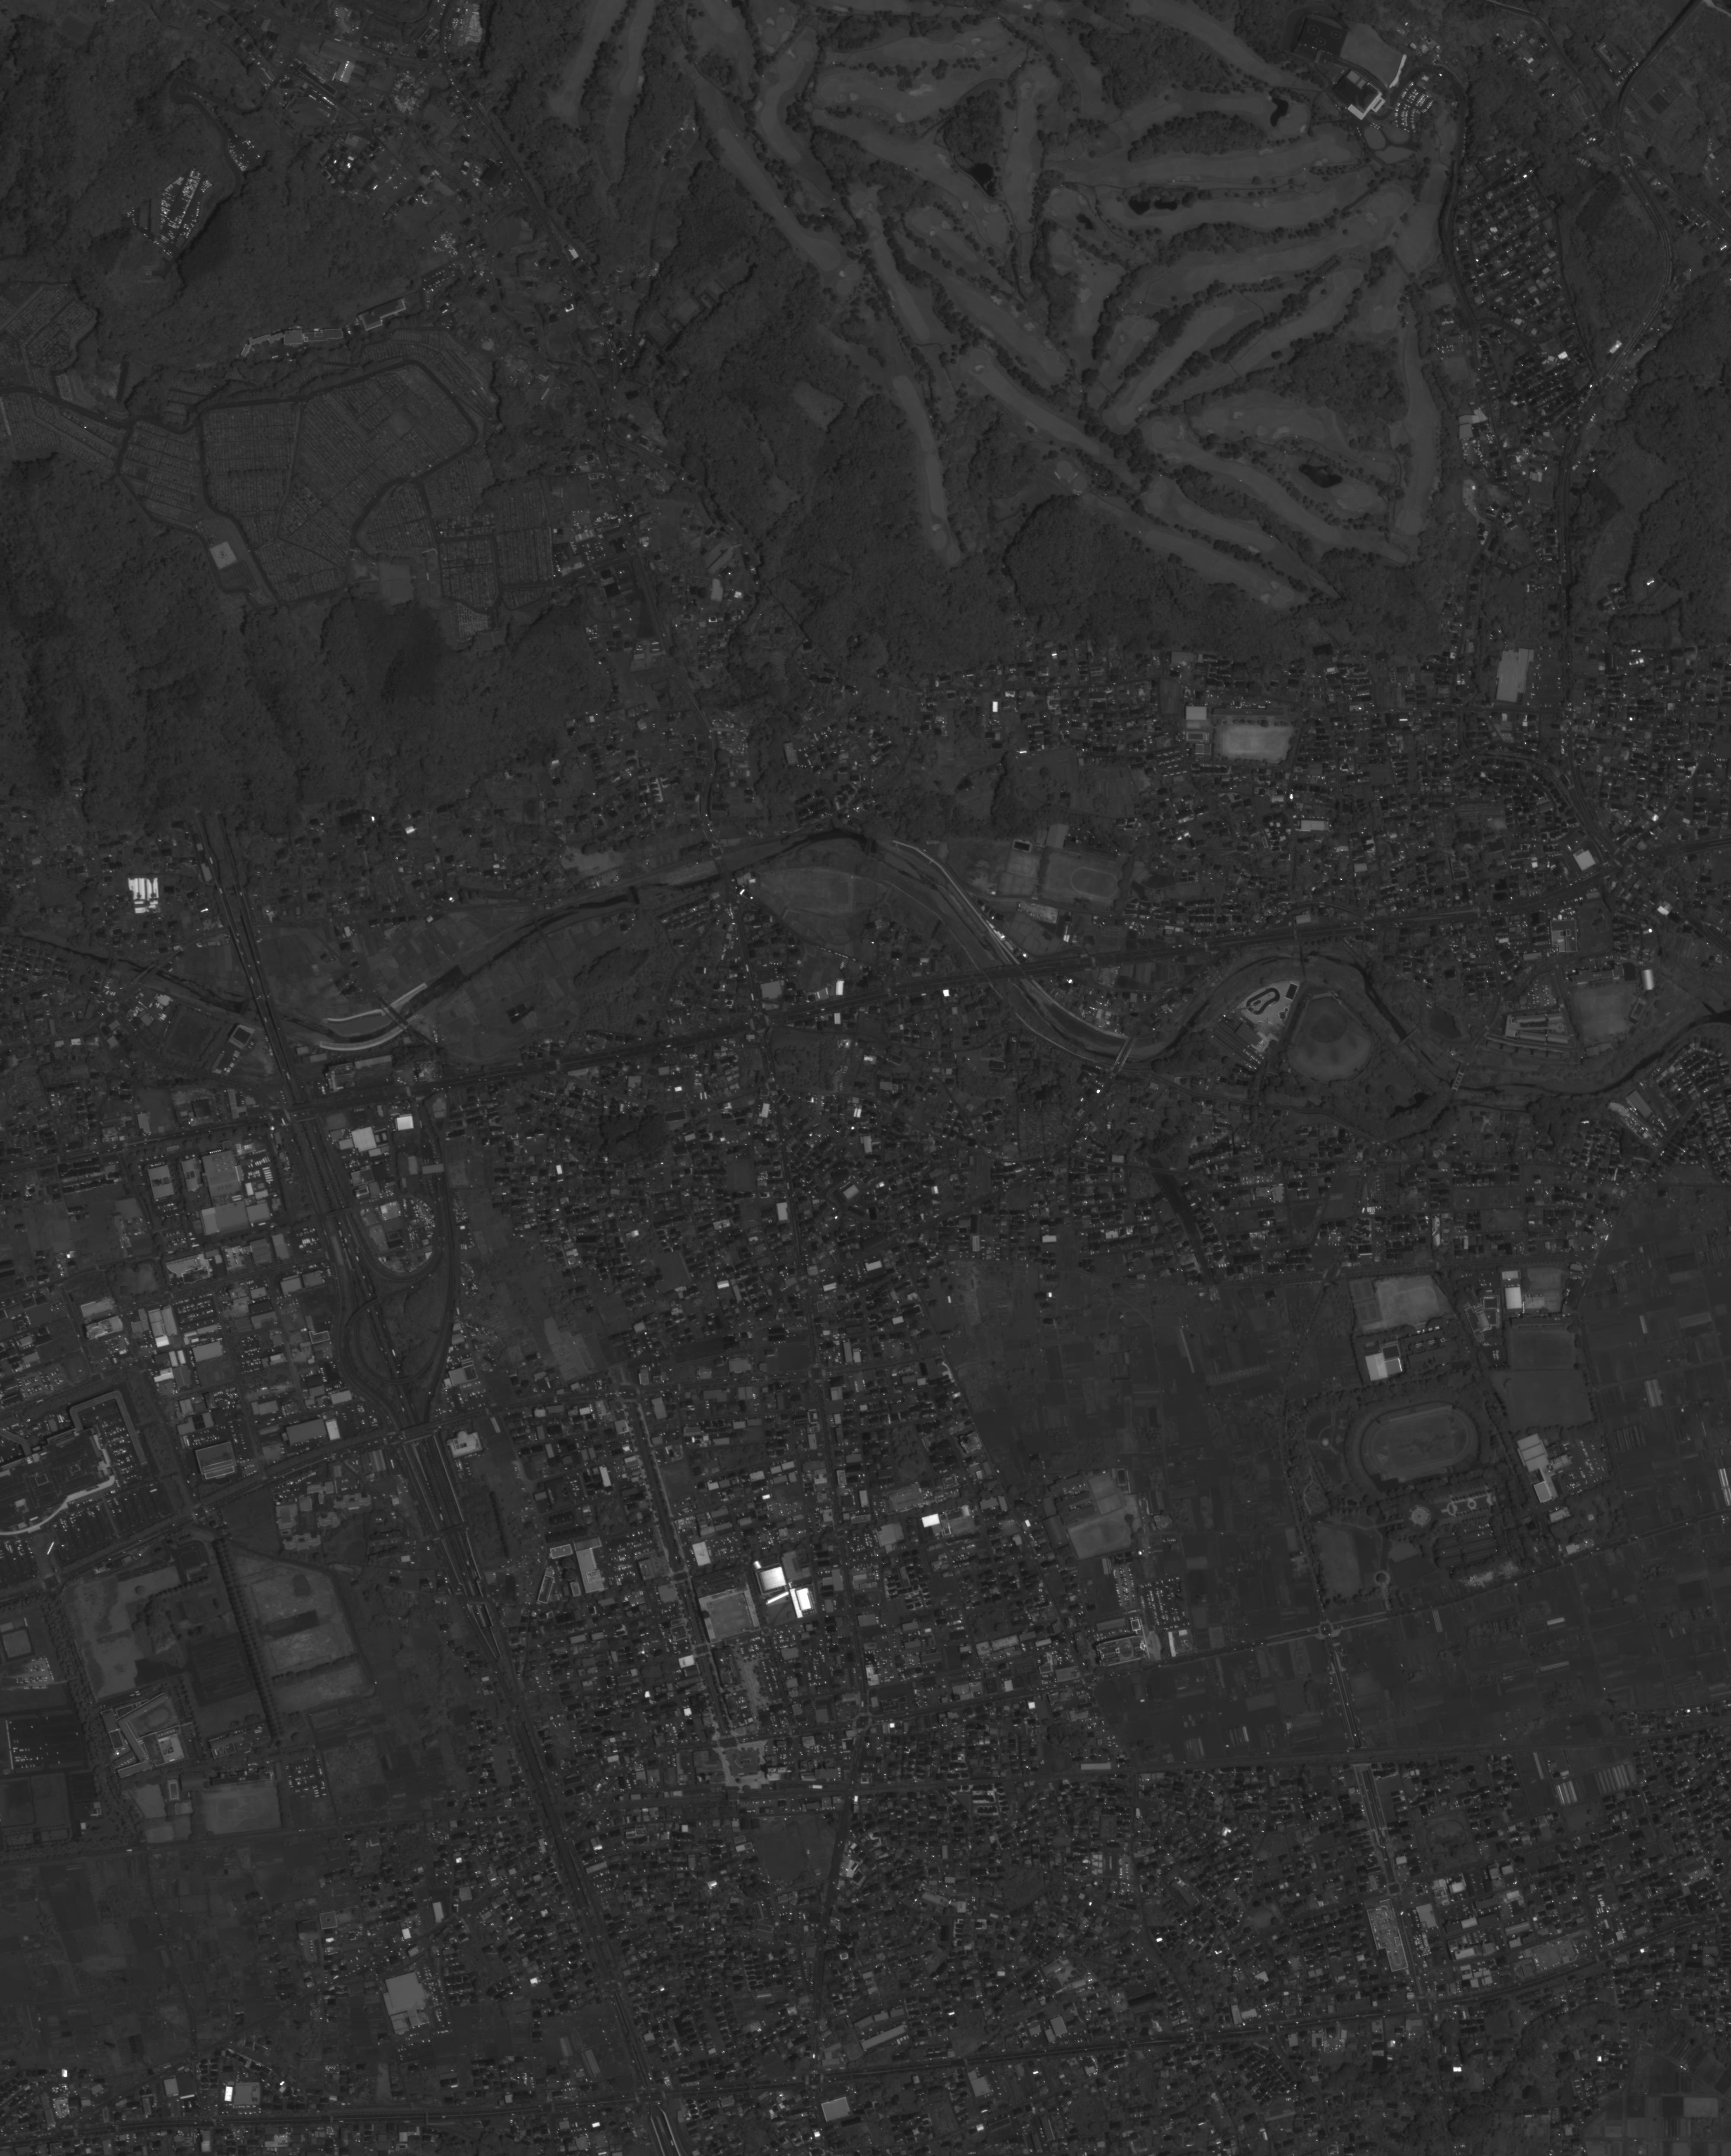baseball diamond: (1304, 1003, 1353, 1047)
bridge: (253, 992, 290, 1077), (263, 991, 300, 1075), (961, 959, 1049, 987), (1441, 1058, 1471, 1109), (1111, 1035, 1139, 1072), (712, 851, 733, 885), (1397, 1024, 1422, 1049), (134, 966, 159, 989), (131, 964, 154, 985), (1298, 941, 1309, 978), (530, 913, 546, 938), (353, 117, 373, 131)
ground track field: (1365, 1409, 1471, 1473), (1067, 863, 1123, 904), (1072, 1515, 1130, 1554), (1381, 1282, 1441, 1319), (212, 1792, 270, 1824), (138, 1704, 175, 1732)
